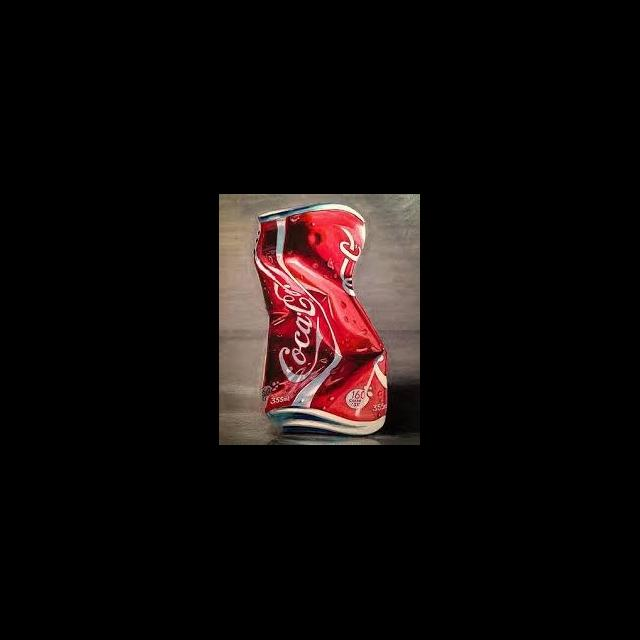metal: (248, 198, 396, 436)
